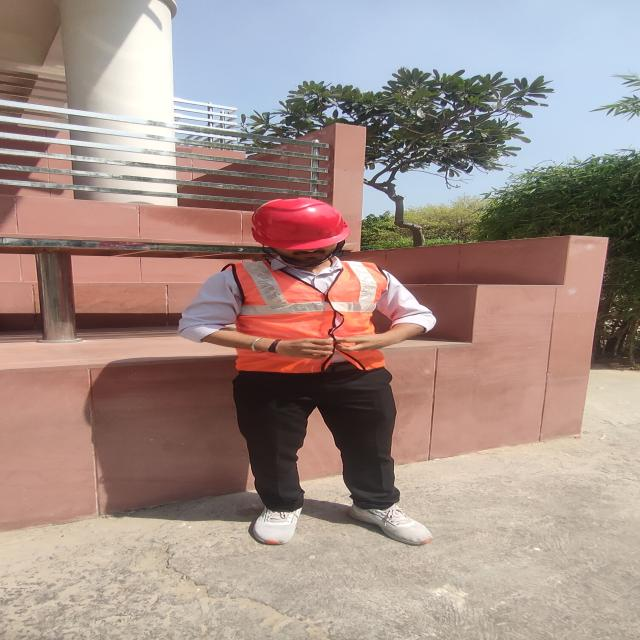safe: (179, 199, 436, 544)
